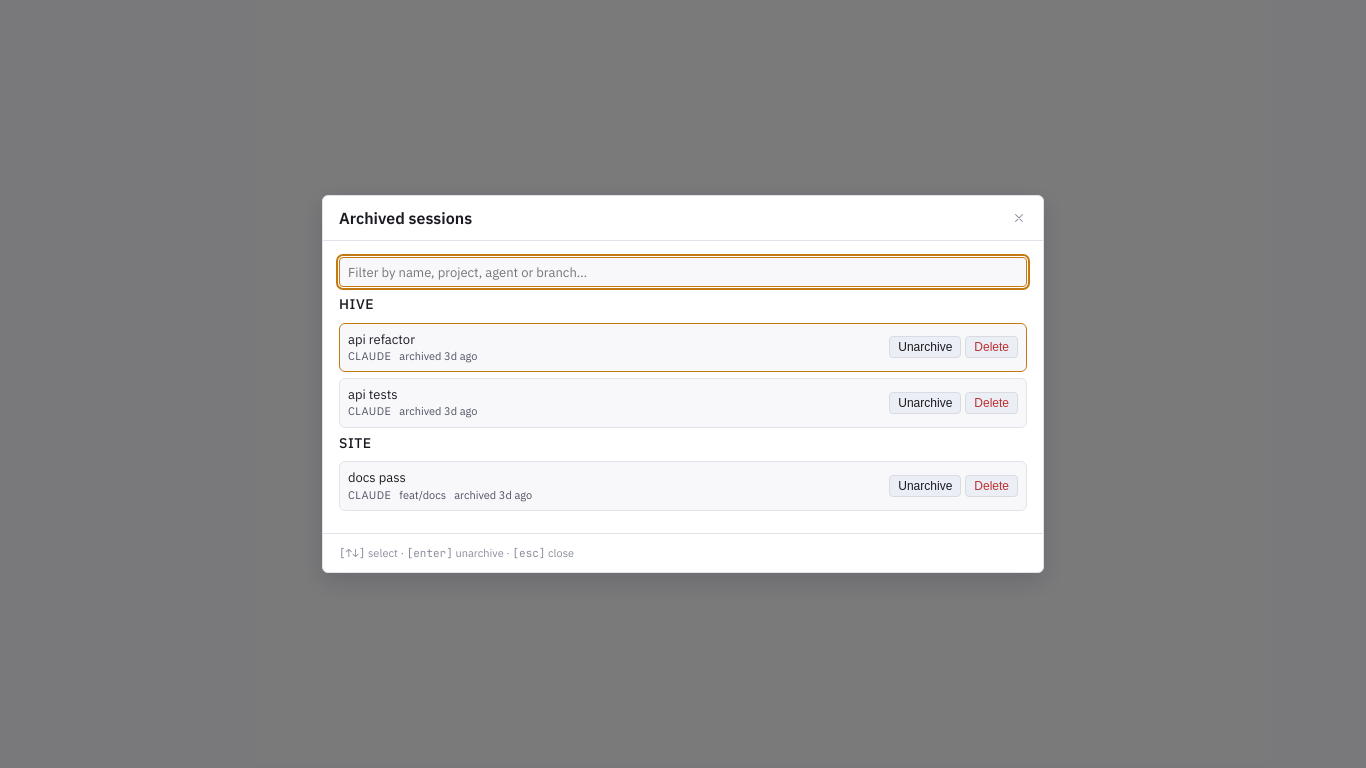
Test: filtering › narrows by name or project and explains an empty result
Step 1. Type "api" into the field with id "archived-sessions-input" → (683, 272), box [339,257,1027,287]
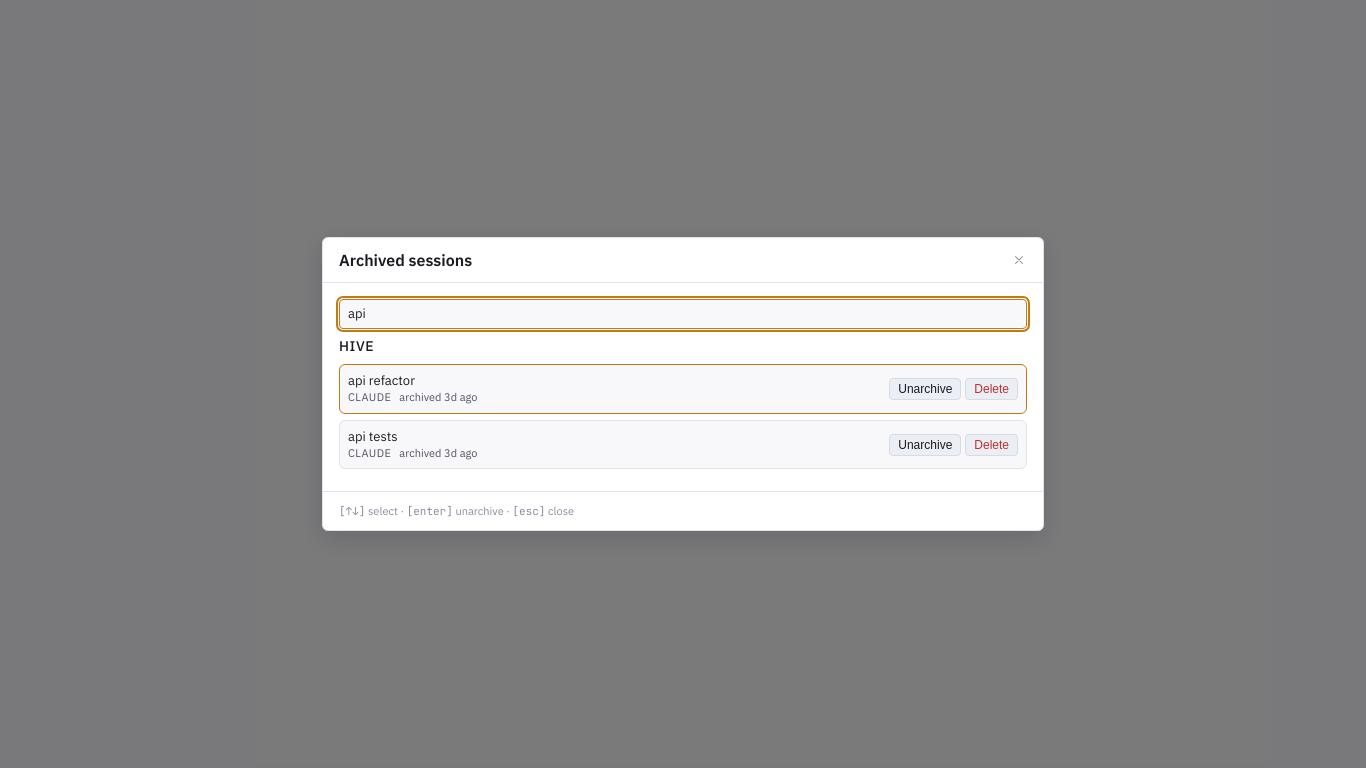
Step 2. Replace the text in the field with id "archived-sessions-input" with "site" → (683, 314), box [339,299,1027,329]
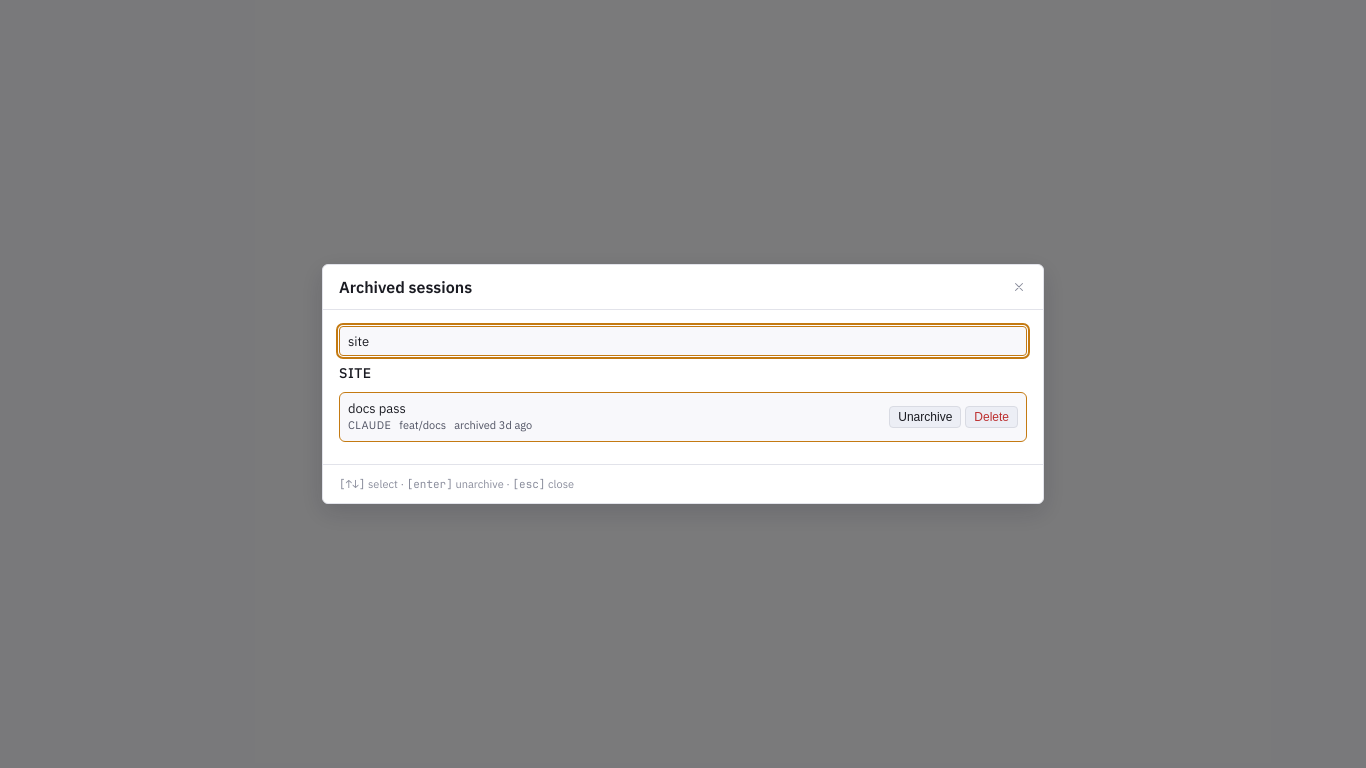
Step 3. Replace the text in the field with id "archived-sessions-input" with "zzz" → (683, 341), box [339,326,1027,356]
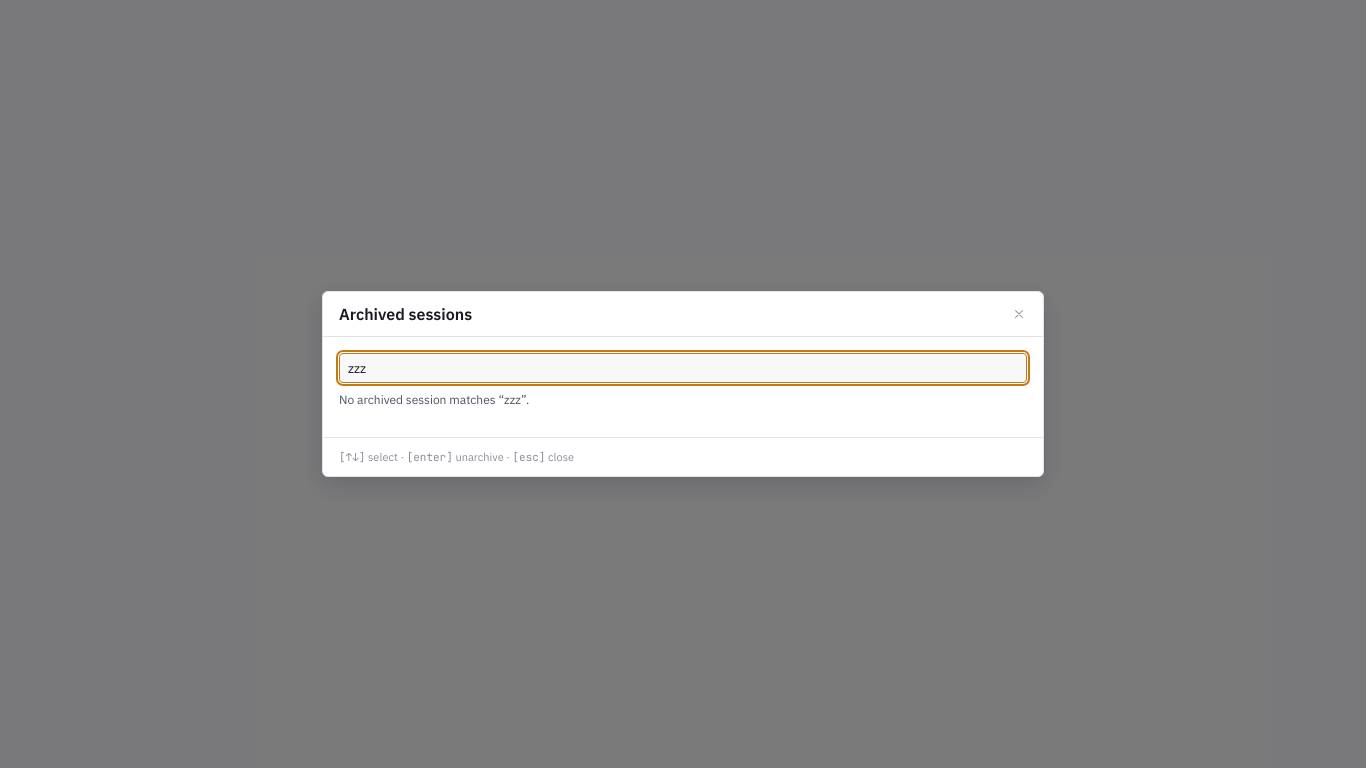
Expected: the text with id "archived-sessions-nomatch" shows "zzz", [504,392,521,407]
